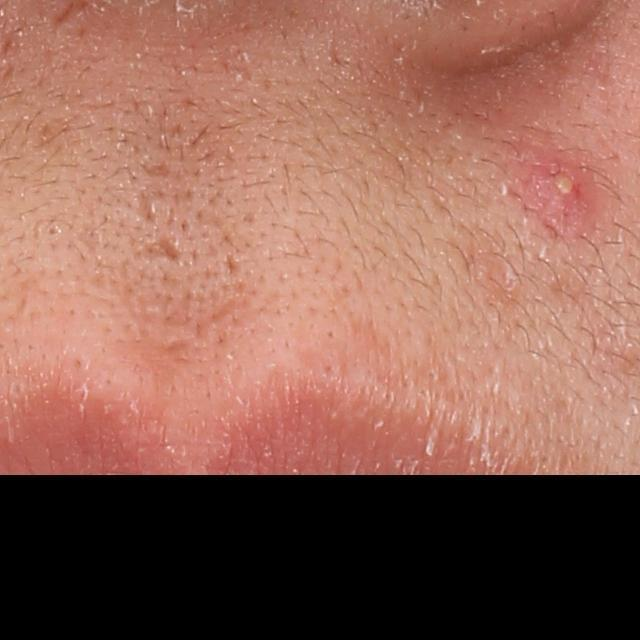atrophic_scar: (136, 284, 236, 338), (142, 234, 185, 266), (137, 192, 157, 226), (140, 163, 176, 177), (223, 253, 239, 281)
pustule: (543, 165, 580, 199)
